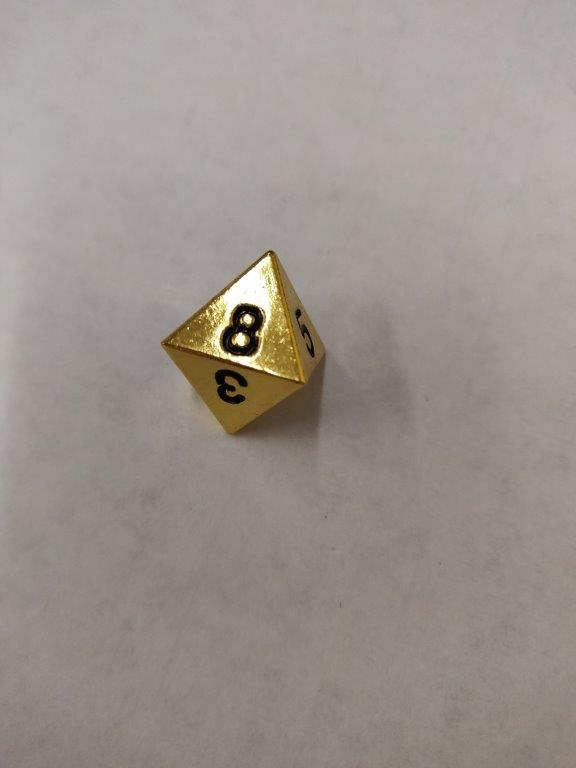d8-8: (159, 252, 326, 436)
